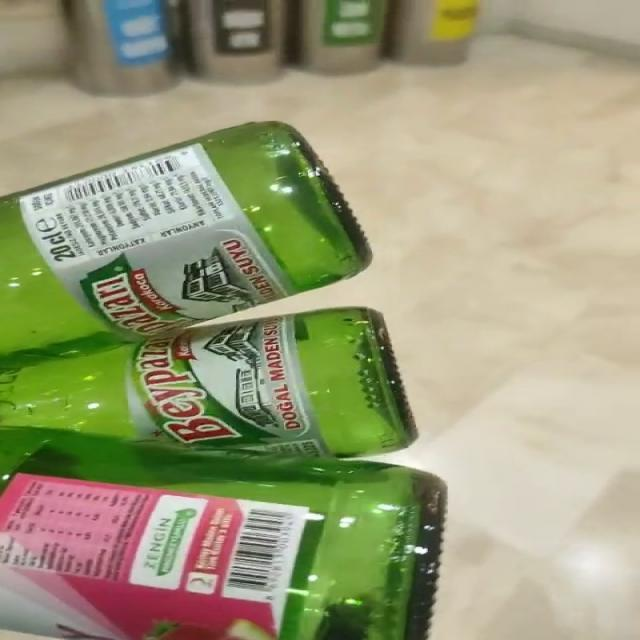Glass: (3, 123, 447, 640)
